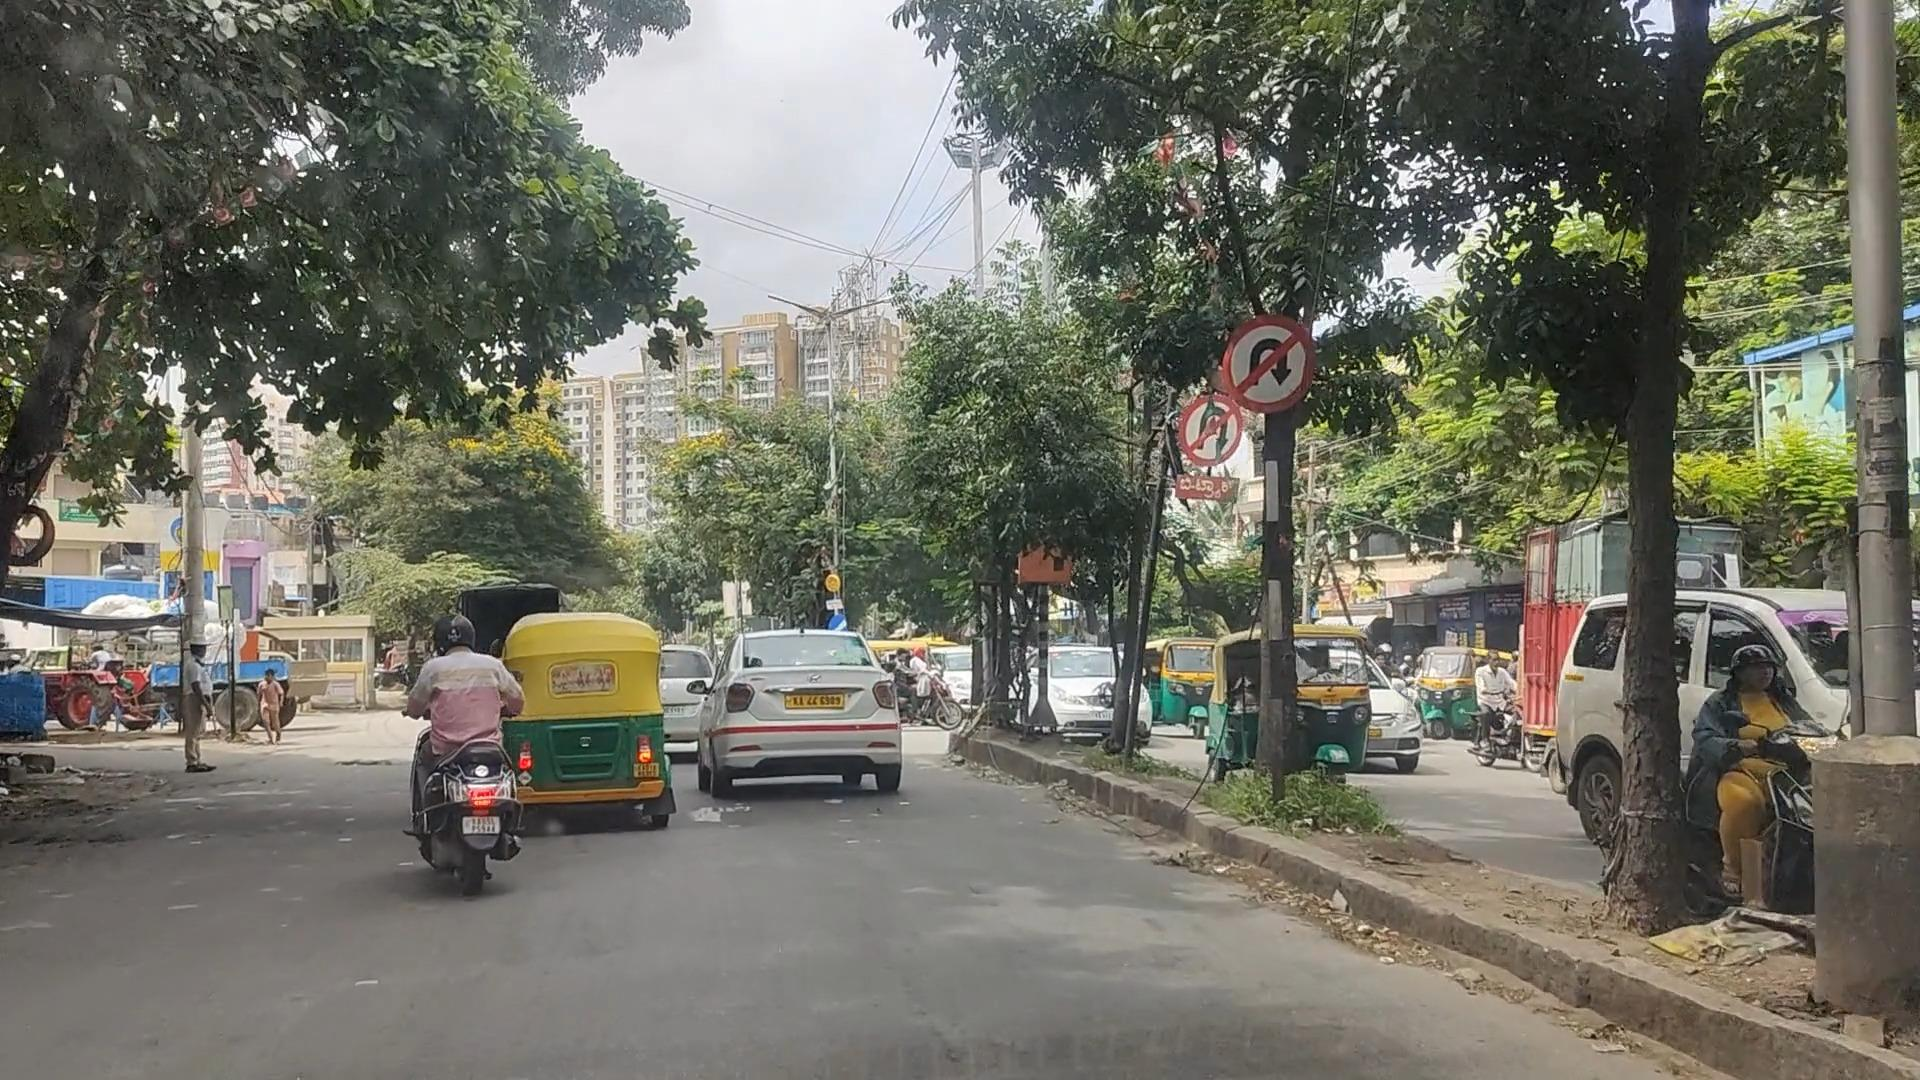LMV: (509, 622, 675, 818), (707, 630, 894, 802), (402, 633, 518, 882)
